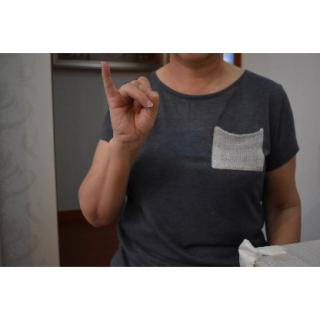MEEM: (99, 60, 162, 145)
